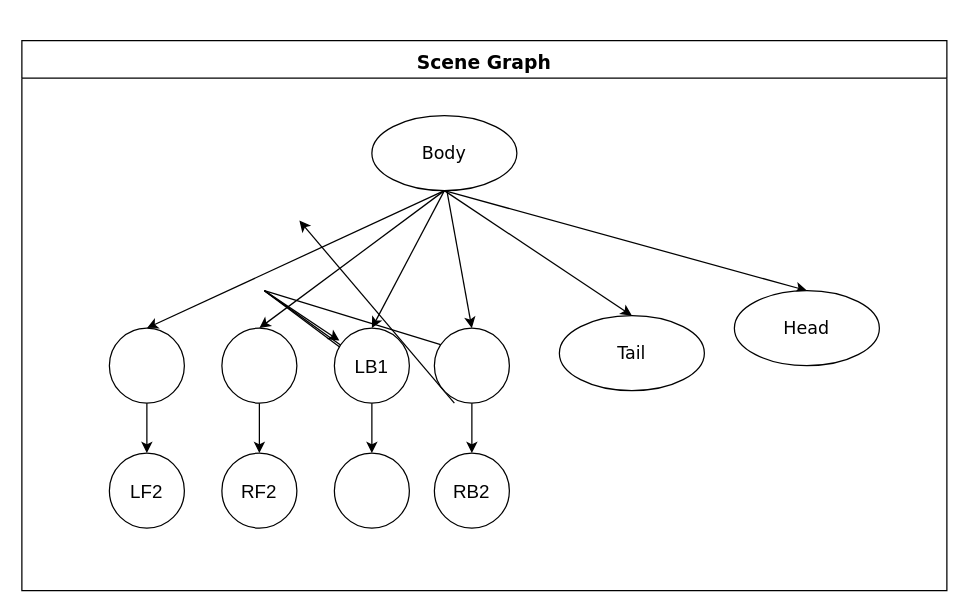
Image size: 969x613. Some labels were removed from this diagram. The centre of each missing label's shape, as x and y in pixels:
"LB2" goes at (371,490).
"LF1" goes at (146,365).
"RB1" goes at (471,365).
"RF1" goes at (259,365).
